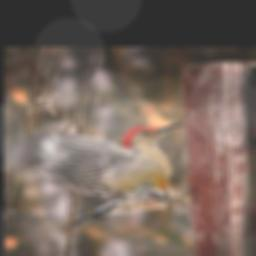Woodpecker: (8, 120, 185, 227)
